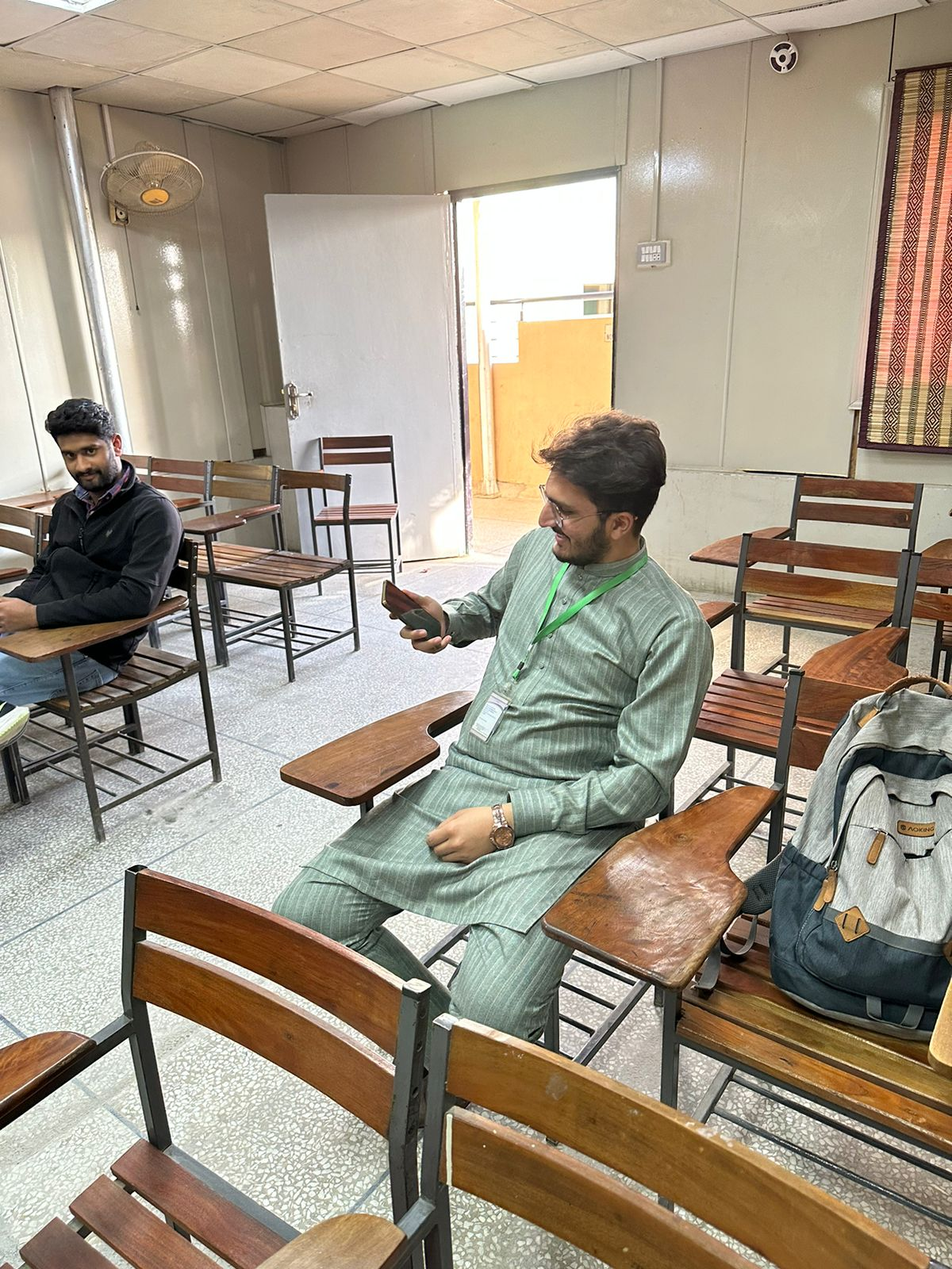non-cheating: (43, 396, 123, 493)
phone: (381, 578, 452, 655)
